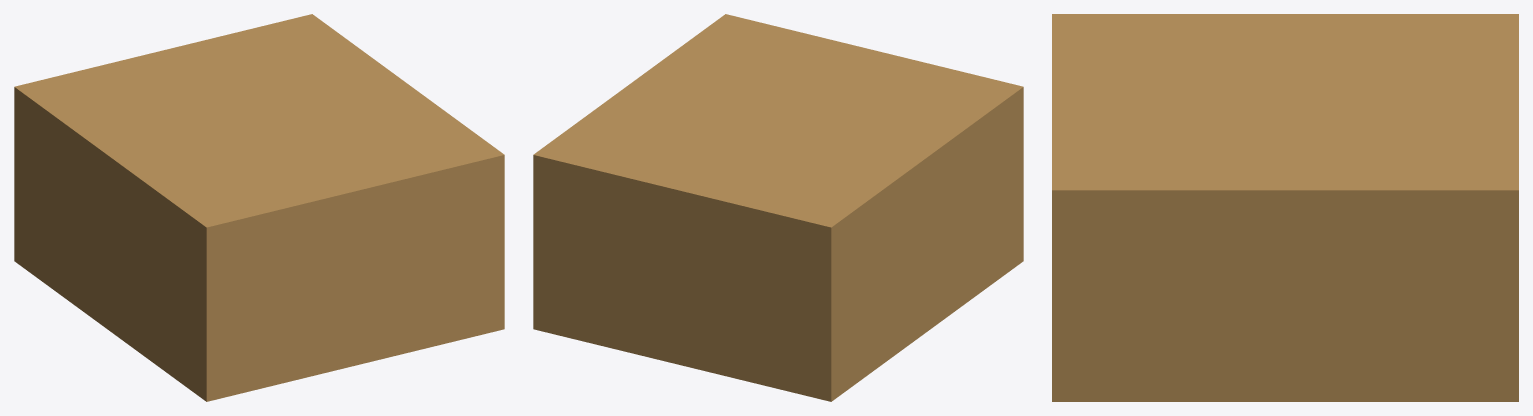
The picture shows the model from 3 angles, left to right: view 1: azimuth 30°, elevation 25°; view 2: azimuth 150°, elevation 25°; view 3: azimuth 270°, elevation 25°; orthographic projection. The views are drawn at different scales.
Parts seen in each view (by area): view 1: __delivery_mesh_5331; view 2: __delivery_mesh_5331; view 3: __delivery_mesh_5331.
Part boxes in pixels (x1,y1,x2,y2): __delivery_mesh_5331: [14, 14, 504, 401]; __delivery_mesh_5331: [533, 14, 1023, 401]; __delivery_mesh_5331: [1052, 14, 1518, 401].
Size of the model in its own units: 0.0805 by 0.045 by 0.09.
